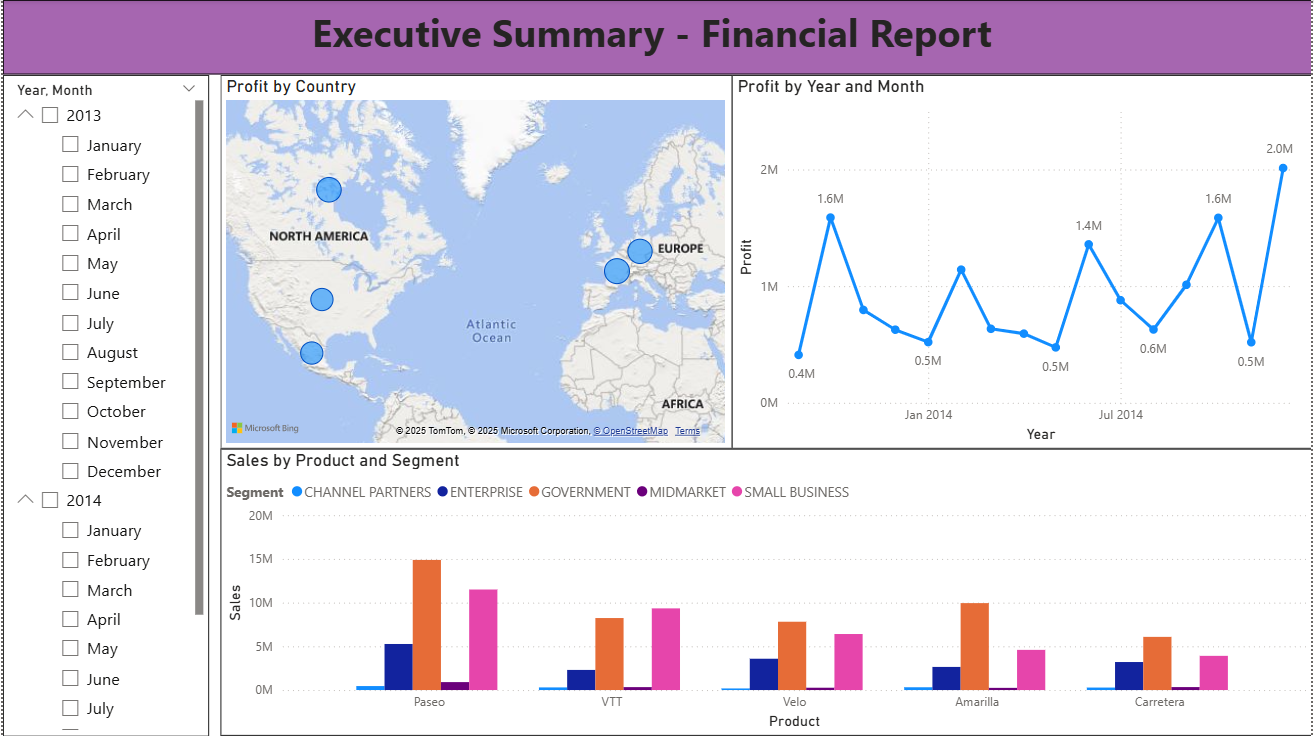

The dashboard page shown, as its layout file describes it:
{"tool":"powerbi","page":{"name":"Page 1","canvas":[1280,720],"ordinal":0},"visuals":[{"type":"textbox","box":[0,0,1280.5,73.2],"z":0},{"type":"lineChart","fields":{"Category":["Calendar.Date.Variation.Date Hierarchy.Year","Calendar.Date.Variation.Date Hierarchy.Month"],"Y":["Sum(financials.Profit)"]},"box":[712.7,73.2,567.8,365.9],"z":1000},{"type":"map","fields":{"Category":["financials.Country"],"Size":["Sum(financials.Profit)"]},"box":[212.2,73.2,500.5,365.9],"z":2000},{"type":"clusteredColumnChart","fields":{"Y":["Sum(financials. Sales)"],"Category":["financials.Product"],"Series":["financials.Segment"]},"box":[212.2,439,1068.3,281],"z":3000},{"type":"slicer","fields":{"Values":["Calendar.Date.Variation.Date Hierarchy.Year","Calendar.Date.Variation.Date Hierarchy.Month"]},"box":[0,73.2,202,646.8],"z":4000}]}

Visuals, with their boxes in screenshot pixels (x1, y1, x2, y2), scaled from the page's 1280x720 canvas onto the 1314x736 screenshot:
textbox: Rect(0, 0, 1313, 75)
lineChart - Calendar.Date.Variation.Date Hierarchy.Year x Calendar.Date.Variation.Date Hierarchy.Month: Rect(732, 75, 1313, 449)
map - financials.Country x Sum(financials.Profit): Rect(218, 75, 732, 449)
clusteredColumnChart - Sum(financials. Sales) x financials.Product: Rect(218, 449, 1313, 735)
slicer - Calendar.Date.Variation.Date Hierarchy.Year x Calendar.Date.Variation.Date Hierarchy.Month: Rect(0, 75, 207, 735)
